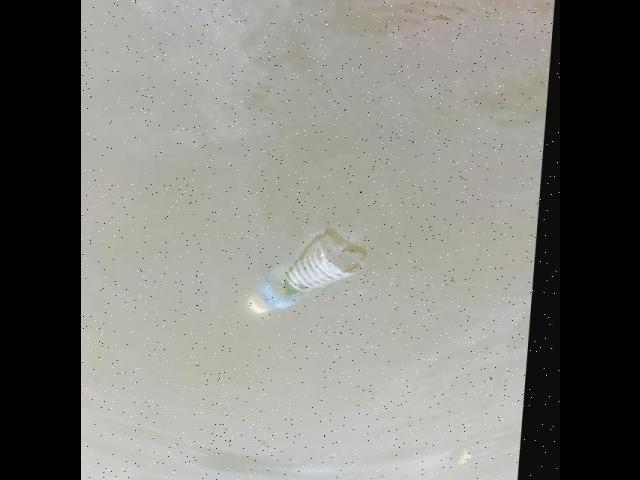Bottle: (234, 231, 367, 336)
